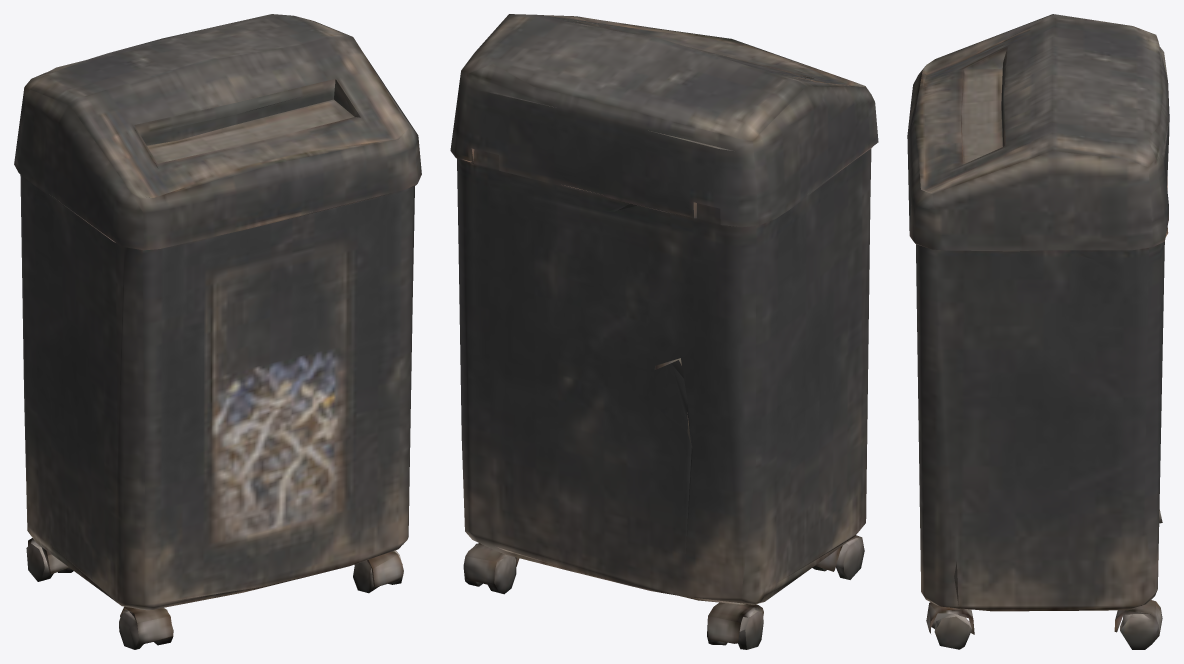
File: p7-paper-shredder.glb
3 renders of one model, left to right at view 1: azimuth 30°, elevation 25°; view 2: azimuth 150°, elevation 25°; view 3: azimuth 270°, elevation 25°, orthographic. The views are drawn at different scales.
Visible parts, largest first — view 1: p7-paper-shredder; view 2: p7-paper-shredder; view 3: p7-paper-shredder.
Boxes of the visible parts, x1,y1,x2,y2 form: p7-paper-shredder: (14,14,421,649); p7-paper-shredder: (450,14,878,649); p7-paper-shredder: (907,14,1169,649).
Size of the model in its own units: 0.4 by 0.65 by 0.3.
Materials: 1 (1 with a texture image).
